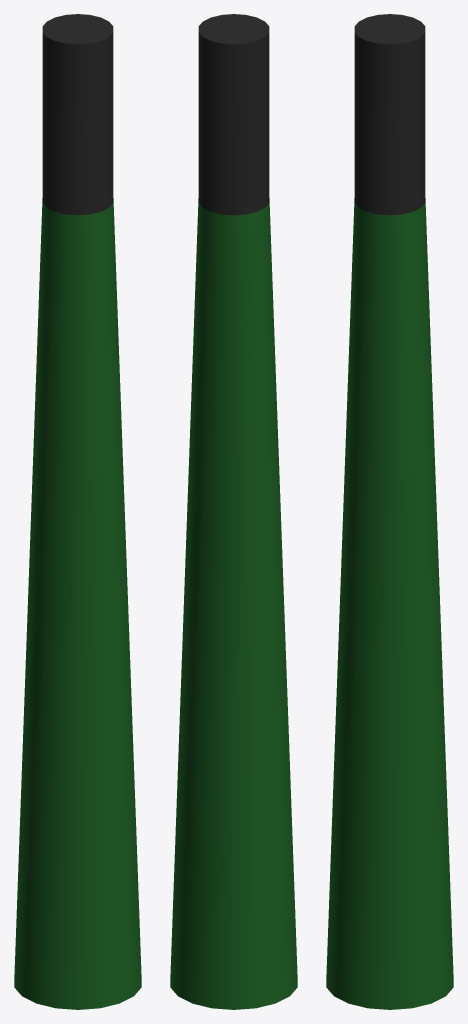
File: MOD_pilierB3.FBX
3 renders of one model, left to right at view 1: azimuth 30°, elevation 25°; view 2: azimuth 210°, elevation 25°; view 3: azimuth 330°, elevation 25°, orthographic.
Visible parts, largest first — view 1: mod_Pilierb; view 2: mod_Pilierb; view 3: mod_Pilierb.
Boxes of the visible parts, x1,y1,x2,y2 form: mod_Pilierb: (14,14,141,1009); mod_Pilierb: (170,14,297,1009); mod_Pilierb: (326,14,453,1009).
Size of the model in its own units: 0.2869 by 2.34 by 0.2826.
